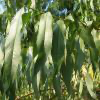Peach leaf: (5, 6, 25, 93), (33, 11, 53, 78), (51, 19, 67, 81), (60, 41, 72, 94), (75, 36, 85, 82), (90, 29, 99, 74)
